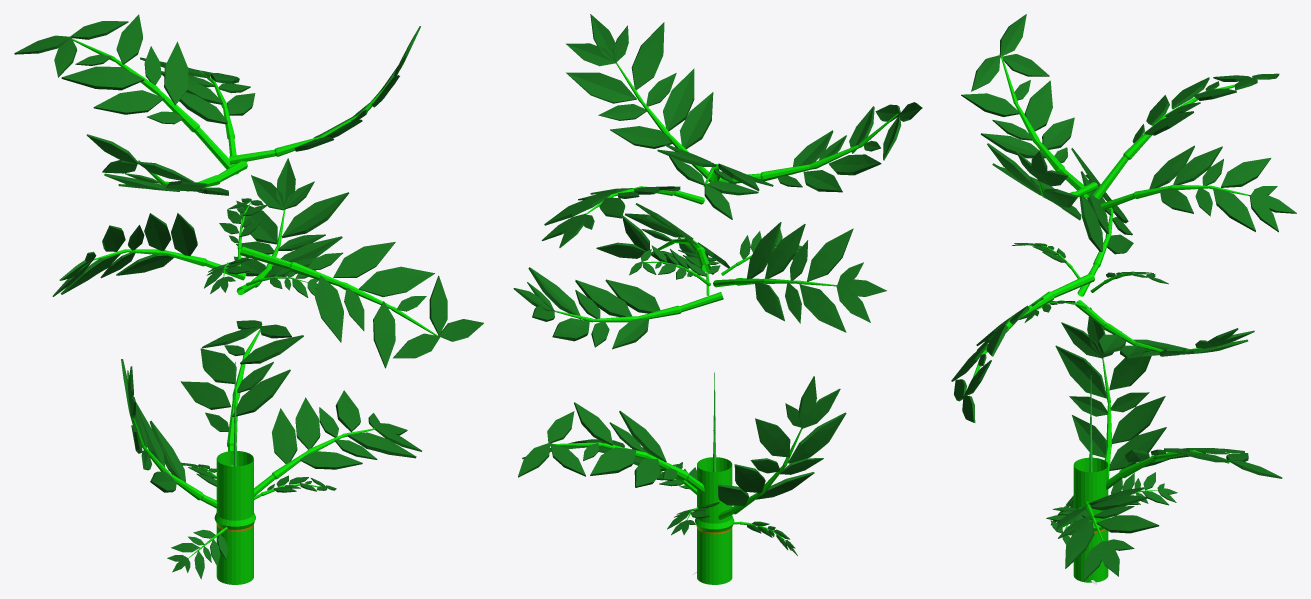
Rendered from Bamboo.glb.
The picture shows the model from 3 angles, left to right: view 1: azimuth 30°, elevation 25°; view 2: azimuth 150°, elevation 25°; view 3: azimuth 270°, elevation 25°; orthographic projection. The views are drawn at different scales.
Visible parts, largest first — view 1: Circle.020, Circle.022, Circle.018, Circle.017, Circle.019, Circle.021, Circle, Circle.001, Circle.025, Circle.023, Circle.024, Circle.008 (+4 smaller); view 2: Circle.024, Circle.021, Circle.019, Circle.001, Circle.017, Circle.025, Circle, Circle.020, Circle.023, Circle.022, Circle.004, Circle.006 (+2 smaller); view 3: Circle.001, Circle.025, Circle.023, Circle.018, Circle.022, Circle.020, Circle.021, Circle.019, Circle, Circle.024, Circle.017, Circle.006 (+1 smaller).
Boxes of the visible parts, x1=… form: Circle.020: x1=240, y1=242, x2=483, y2=368; Circle.022: x1=14, y1=14, x2=234, y2=169; Circle.018: x1=254, y1=390, x2=421, y2=496; Circle.017: x1=180, y1=320, x2=303, y2=466; Circle.019: x1=234, y1=158, x2=349, y2=295; Circle.021: x1=52, y1=213, x2=246, y2=296; Circle: x1=214, y1=451, x2=255, y2=584; Circle.001: x1=121, y1=359, x2=216, y2=508; Circle.025: x1=86, y1=134, x2=247, y2=195; Circle.023: x1=140, y1=57, x2=255, y2=174; Circle.024: x1=229, y1=26, x2=420, y2=164; Circle.008: x1=167, y1=527, x2=227, y2=579; Circle.024: x1=566, y1=14, x2=718, y2=181; Circle.021: x1=713, y1=222, x2=886, y2=332; Circle.019: x1=513, y1=267, x2=723, y2=349; Circle.001: x1=718, y1=376, x2=846, y2=519; Circle.017: x1=518, y1=402, x2=704, y2=493; Circle.025: x1=718, y1=102, x2=922, y2=192; Circle: x1=695, y1=457, x2=734, y2=584; Circle.020: x1=596, y1=203, x2=729, y2=274; Circle.023: x1=541, y1=186, x2=704, y2=247; Circle.022: x1=657, y1=143, x2=773, y2=219; Circle.004: x1=629, y1=245, x2=710, y2=286; Circle.006: x1=667, y1=502, x2=719, y2=535; Circle.001: x1=1055, y1=307, x2=1166, y2=479; Circle.025: x1=961, y1=14, x2=1090, y2=197; Circle.023: x1=1101, y1=145, x2=1296, y2=232; Circle.018: x1=1055, y1=487, x2=1159, y2=580; Circle.022: x1=1093, y1=73, x2=1279, y2=199; Circle.020: x1=951, y1=273, x2=1094, y2=422; Circle.021: x1=1071, y1=148, x2=1133, y2=296; Circle.019: x1=1075, y1=300, x2=1254, y2=358; Circle: x1=1073, y1=457, x2=1109, y2=582; Circle.024: x1=987, y1=143, x2=1097, y2=220; Circle.017: x1=1106, y1=448, x2=1282, y2=489; Circle.006: x1=1111, y1=472, x2=1177, y2=505.
Size of the model in its own units: 22.99 by 31.61 by 19.9.
